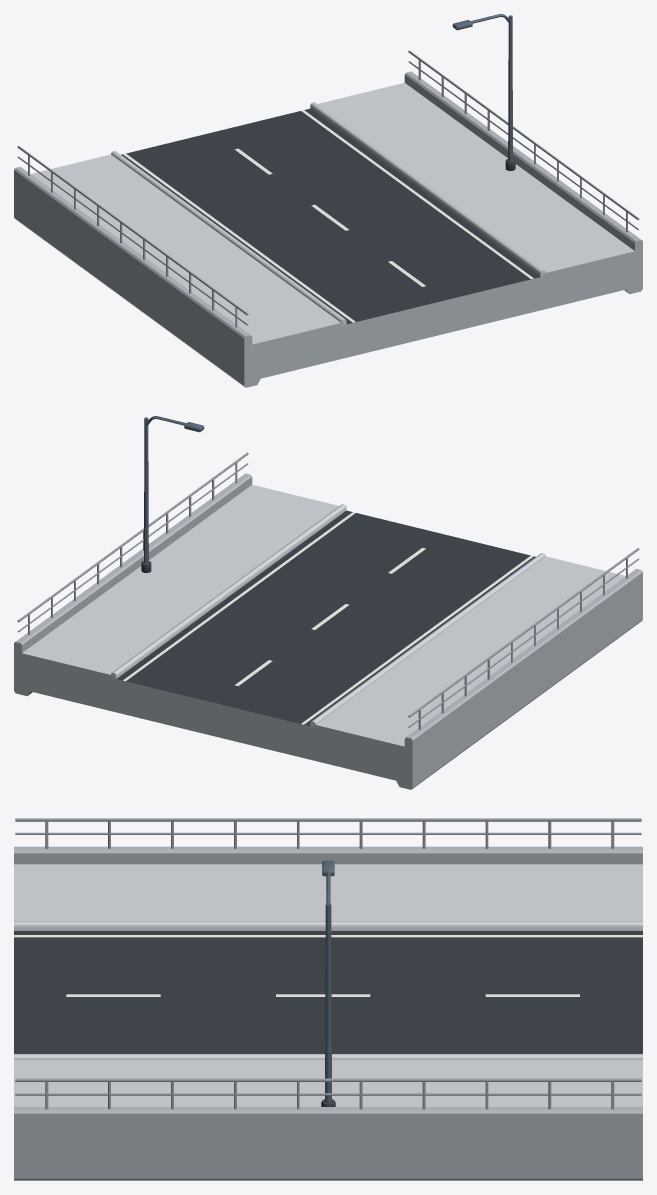
The model's file is viaduto_rua_vao.glb.
The picture shows the model from 3 angles, top to bottom: view 1: azimuth 30°, elevation 25°; view 2: azimuth 150°, elevation 25°; view 3: azimuth 270°, elevation 25°; orthographic projection. The views are drawn at different scales.
Visible parts, largest first — view 1: viaduto_rua_vao; view 2: viaduto_rua_vao; view 3: viaduto_rua_vao.
Boxes of the visible parts, x1,y1,x2,y2 form: viaduto_rua_vao: (14,14,642,387); viaduto_rua_vao: (14,416,642,789); viaduto_rua_vao: (14,818,642,1180).
Bounding box in the file's own units: 15 × 7.18 × 15.
Materials: 2 (1 with a texture image).
